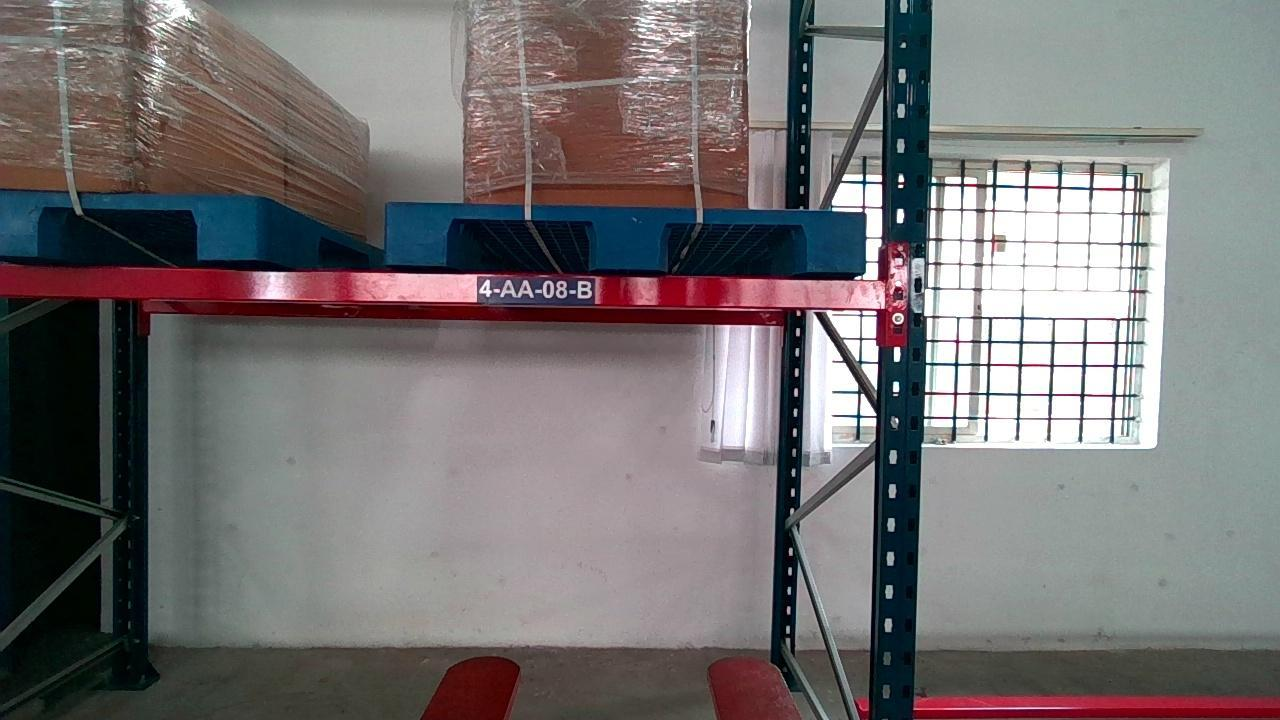h_rack: (6, 267, 886, 308)
small_pallet: (382, 200, 867, 273), (0, 191, 259, 260)
